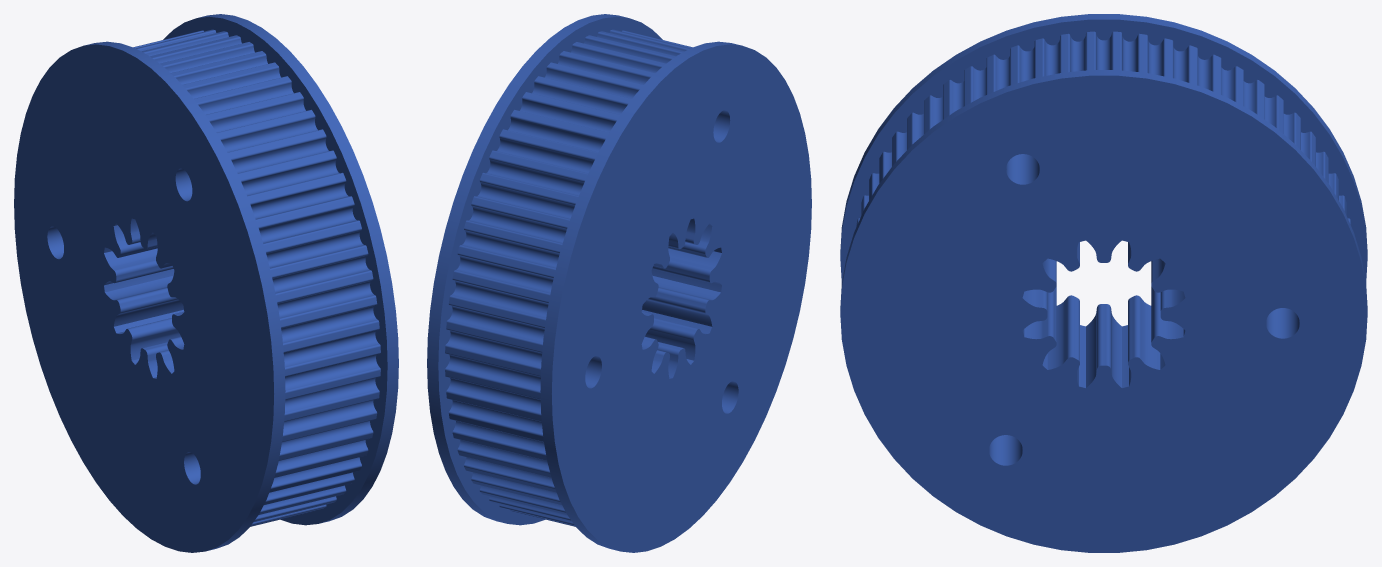
3 views of the same model, side by side, from view 1: azimuth 30°, elevation 25°; view 2: azimuth 150°, elevation 25°; view 3: azimuth 270°, elevation 25° (orthographic).
Visible parts, largest first — view 1: mesh4913, mesh4915, mesh4836, mesh4914, mesh5012, mesh5018, mesh5024, mesh5006, mesh5030, mesh5000, mesh5036, mesh4994 (+31 smaller); view 2: mesh4913, mesh4915, mesh4836, mesh4914, mesh5138, mesh5144, mesh5132, mesh5150, mesh5126, mesh5156, mesh5120, mesh5162 (+31 smaller); view 3: mesh4837, mesh4916, mesh4914, mesh4836, mesh4839, mesh4895, mesh4911, mesh4912, mesh4910, mesh4901, mesh4905.
Boxes of the visible parts, box(x1,y1,x2,y2) form: mesh4913: box(14, 44, 273, 552); mesh4915: box(163, 16, 387, 525); mesh4836: box(198, 14, 398, 523); mesh4914: box(84, 41, 285, 551); mesh5012: box(272, 256, 368, 291); mesh5018: box(266, 232, 362, 266); mesh5024: box(259, 208, 356, 242); mesh5006: box(277, 281, 372, 316); mesh5030: box(251, 184, 348, 218); mesh5000: box(281, 305, 375, 340); mesh5036: box(242, 162, 339, 195); mesh4994: box(283, 330, 377, 364); mesh4913: box(552, 44, 811, 552); mesh4915: box(438, 16, 662, 525); mesh4836: box(427, 14, 627, 523); mesh4914: box(540, 41, 741, 551); mesh5138: box(463, 232, 559, 266); mesh5144: box(457, 256, 553, 291); mesh5132: box(469, 208, 566, 242); mesh5150: box(453, 281, 548, 316); mesh5126: box(477, 184, 574, 218); mesh5156: box(450, 305, 544, 340); mesh5120: box(486, 162, 583, 195); mesh5162: box(448, 330, 542, 364); mesh4837: box(840, 75, 1367, 552); mesh4916: box(840, 19, 1367, 282); mesh4914: box(840, 14, 1367, 254); mesh4836: box(840, 70, 1367, 310); mesh4839: box(1140, 298, 1160, 369); mesh4895: box(1047, 298, 1067, 369); mesh4911: box(1006, 154, 1039, 184); mesh4912: box(1266, 308, 1299, 338); mesh4910: box(989, 435, 1022, 465); mesh4901: box(1086, 308, 1096, 387); mesh4905: box(1111, 308, 1121, 387).
Size of the model in its own units: 0.011 by 0.0397 by 0.0397.
